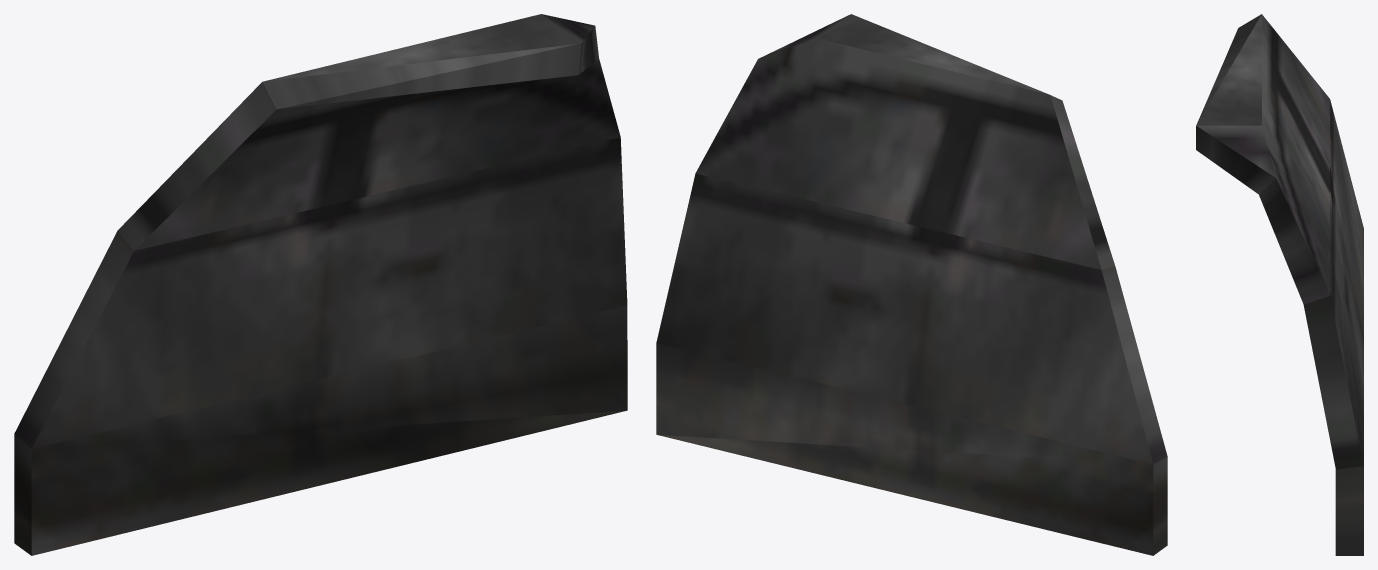
File: Shared - Ground Vehicles - CV Generic x 09 - CVGeneric_x09.glb
3 renders of one model, left to right at view 1: azimuth 30°, elevation 25°; view 2: azimuth 150°, elevation 25°; view 3: azimuth 270°, elevation 25°, orthographic. The views are drawn at different scales.
Visible parts, largest first — view 1: CVGENERIC_X09; view 2: CVGENERIC_X09; view 3: CVGENERIC_X09.
Boxes of the visible parts, bbox=[...] form: CVGENERIC_X09: bbox=[14, 14, 627, 555]; CVGENERIC_X09: bbox=[656, 14, 1167, 555]; CVGENERIC_X09: bbox=[1196, 14, 1363, 555].
Bounding box in the file's own units: 7.52 × 5.57 × 2.24.
1 material, 1 textured.
